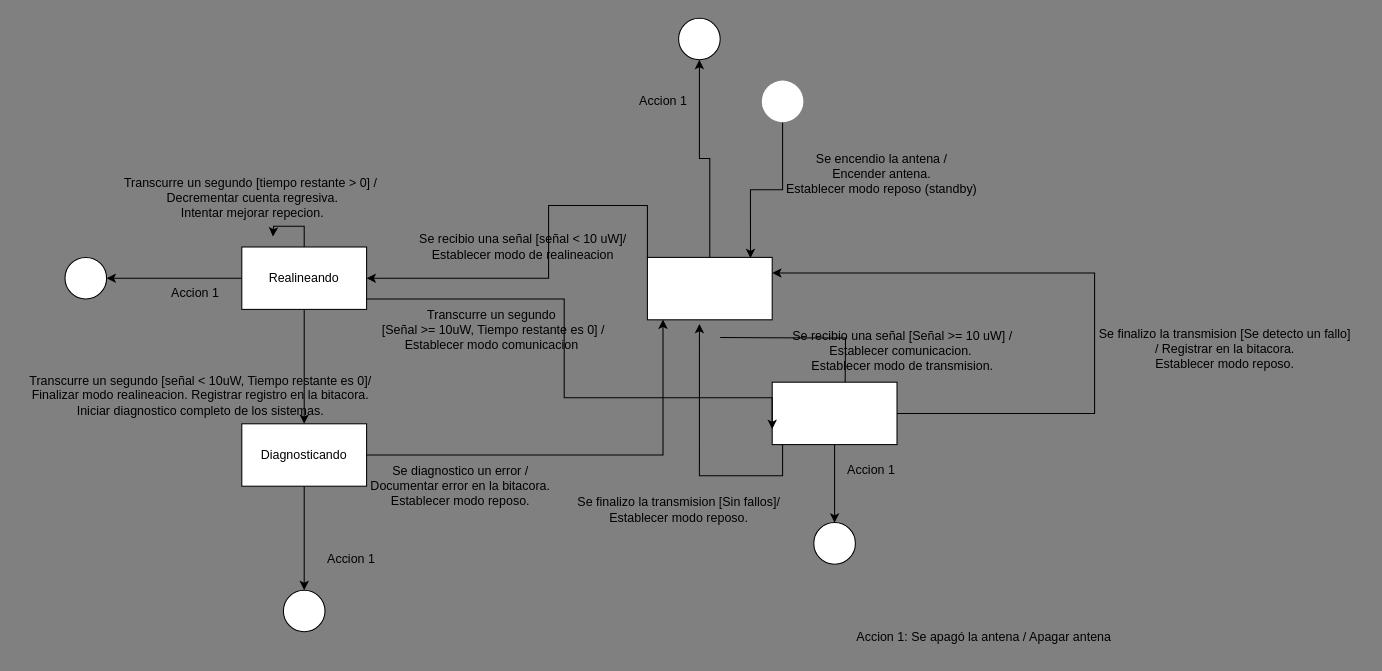
The diagram is 1382 pixels wide and 671 high, and some of its shapes have lost their labels. Here are the shapes that lost their labels. From the top down, the centre of each, then its label:
At point 709,288: "Reposando".
At point 834,413: "Realizando transmision".
